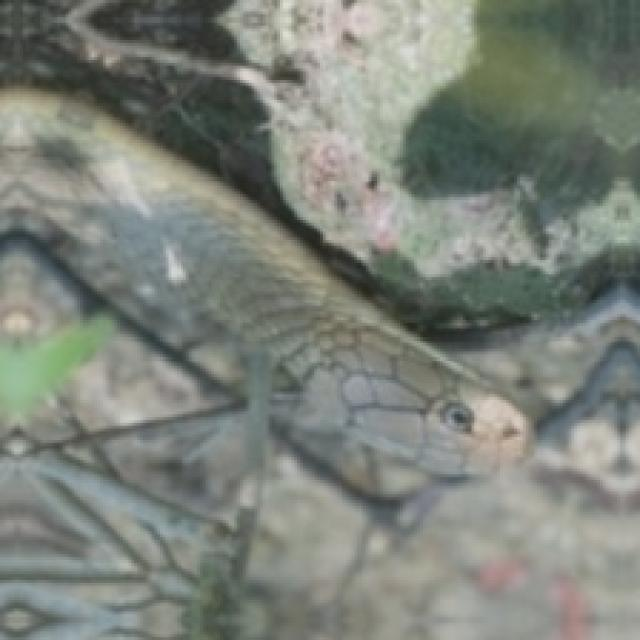king cobra: (0, 89, 529, 497)
